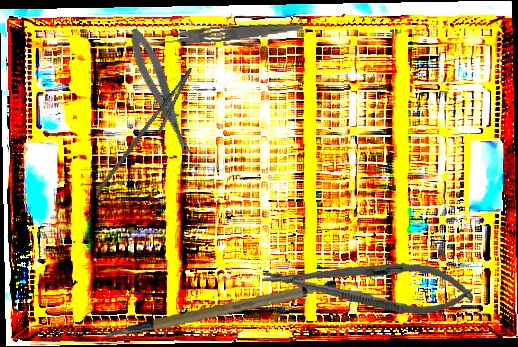Dressing Forceps: (146, 15, 304, 50)
Micro Scissor: (123, 24, 198, 163)
Needle Holder: (94, 57, 204, 211), (260, 249, 476, 320)
Scalpel Handle: (102, 275, 339, 340)
